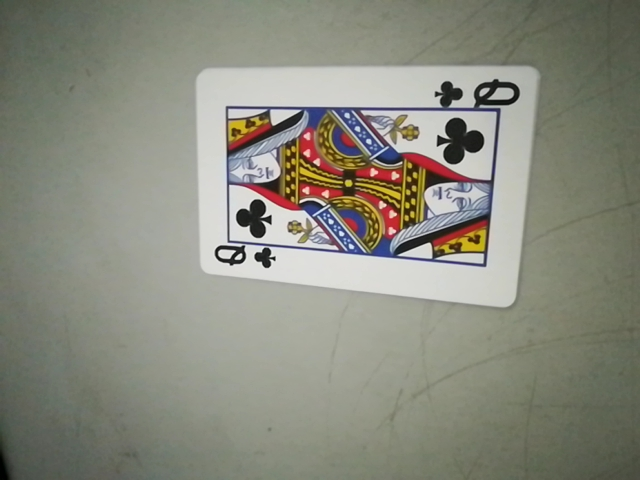mh j: (433, 75, 525, 109), (210, 240, 282, 276)
